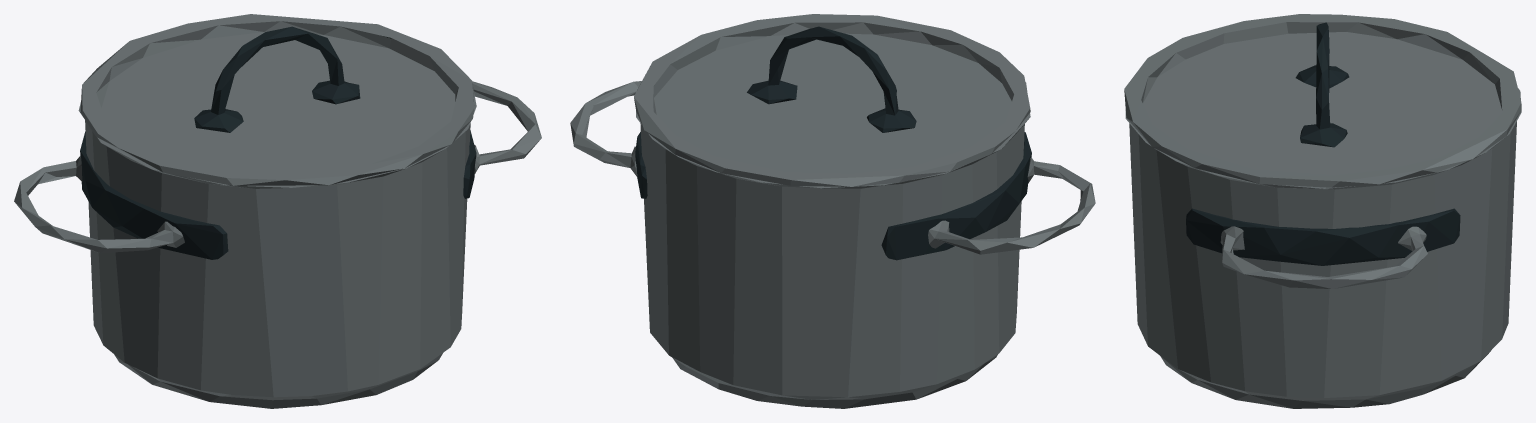
File: Pot02.fbx
3 views of the same model, side by side, from view 1: azimuth 30°, elevation 25°; view 2: azimuth 150°, elevation 25°; view 3: azimuth 270°, elevation 25° (orthographic).
Visible parts, largest first — view 1: Pot02LowPoly, Pot02LidLowPoly; view 2: Pot02LowPoly, Pot02LidLowPoly; view 3: Pot02LowPoly, Pot02LidLowPoly.
Part boxes in pixels (box(x1,y1,x2,y2)): Pot02LowPoly: box(14, 81, 541, 408); Pot02LidLowPoly: box(80, 14, 474, 185); Pot02LowPoly: box(570, 81, 1095, 408); Pot02LidLowPoly: box(634, 14, 1030, 188); Pot02LowPoly: box(1125, 88, 1521, 408); Pot02LidLowPoly: box(1124, 14, 1521, 187).
Size of the model in its own units: 33.99 by 20.46 by 23.86.
